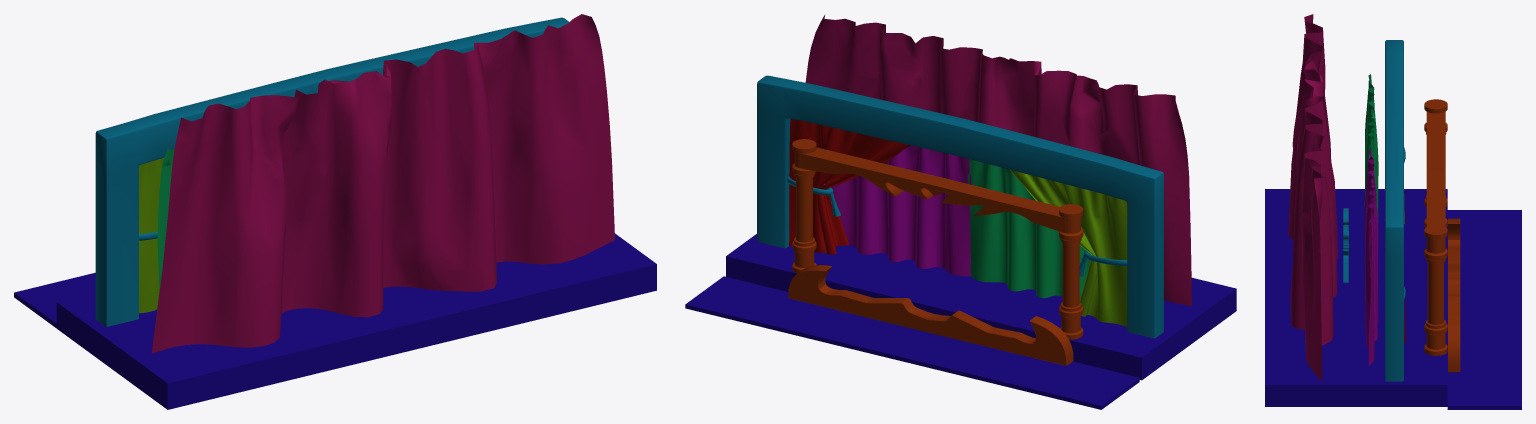
File: FinalSalaBossEntera.fbx
The picture shows the model from 3 angles, left to right: view 1: azimuth 30°, elevation 25°; view 2: azimuth 150°, elevation 25°; view 3: azimuth 270°, elevation 25°; orthographic projection. The views are drawn at different scales.
Parts seen in each view (by area): view 1: sm_Cube__44___15_019, telon018; view 2: sm_Cube__44___15_019, telon020, telon018; view 3: sm_Cube__44___15_019, telon020, telon018.
Boxes of the visible parts, x1,y1,x2,y2 form: sm_Cube__44___15_019: (14,14,656,409); telon018: (157,148,174,291); sm_Cube__44___15_019: (685,15,1236,409); telon020: (831,145,971,276); telon018: (968,159,1090,298); sm_Cube__44___15_019: (1265,14,1521,409); telon020: (1364,149,1378,365); telon018: (1364,74,1378,222).
Size of the model in its own units: 3392 by 1743 by 1867.
